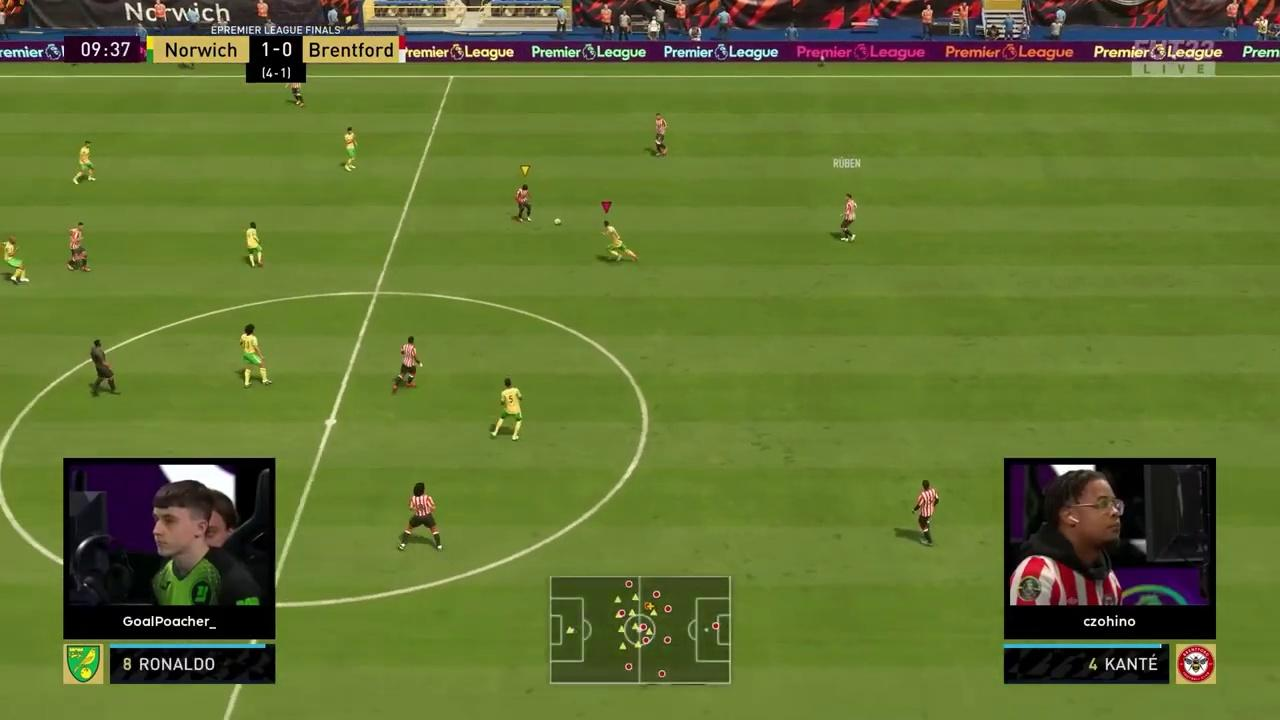scoreboard: (150, 36, 405, 66)
timestamp: (66, 30, 147, 61)
